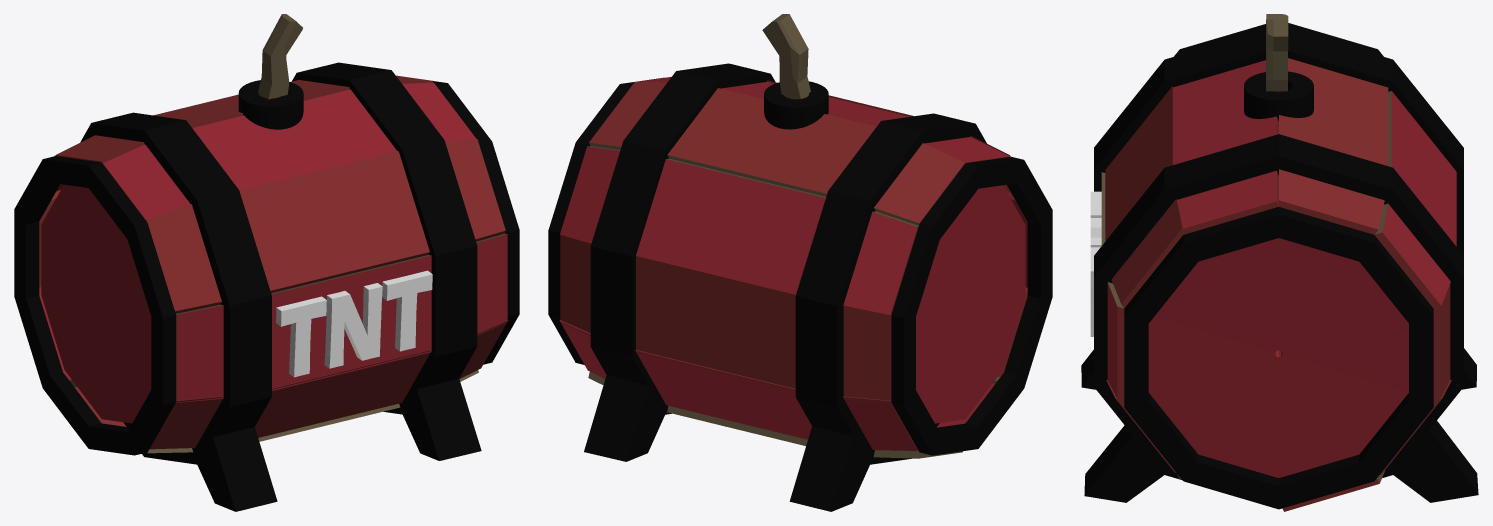
The model's file is TNT_oll.fbx.
3 renders of one model, left to right at view 1: azimuth 30°, elevation 25°; view 2: azimuth 150°, elevation 25°; view 3: azimuth 270°, elevation 25°, orthographic. The views are drawn at different scales.
Visible parts, largest first — view 1: Труба_2_2, Труба_1, Труба_2, Шапка_1_2, Труба, Куб, Шапка_1, Шапка_1_3, N, T, T_2; view 2: Труба_2_2, Труба_1, Труба_2, Куб, Труба; view 3: Труба_2_2, Труба_2, Труба_1, Труба, Куб.
Boxes of the visible parts, left/top/right/bottom form: Труба_2_2: left=14, top=75, right=519, bottom=455; Труба_1: left=80, top=112, right=277, bottom=511; Труба_2: left=292, top=62, right=481, bottom=460; Шапка_1_2: left=329, top=286, right=382, bottom=368; Труба: left=238, top=80, right=303, bottom=129; Куб: left=258, top=14, right=302, bottom=99; Шапка_1: left=281, top=300, right=326, bottom=377; Шапка_1_3: left=387, top=274, right=432, bottom=351; N: left=324, top=283, right=382, bottom=368; T: left=276, top=296, right=326, bottom=376; T_2: left=382, top=270, right=432, bottom=351; Труба_2_2: left=548, top=77, right=1052, bottom=458; Труба_1: left=789, top=113, right=986, bottom=511; Труба_2: left=584, top=63, right=775, bottom=461; Куб: left=762, top=14, right=810, bottom=99; Труба: left=764, top=81, right=828, bottom=129; Труба_2_2: left=1101, top=23, right=1456, bottom=511; Труба_2: left=1084, top=134, right=1478, bottom=502; Труба_1: left=1081, top=29, right=1476, bottom=389; Труба: left=1244, top=71, right=1313, bottom=121; Куб: left=1266, top=14, right=1288, bottom=91.
Bounding box in the file's own units: 220 × 237 × 195.
